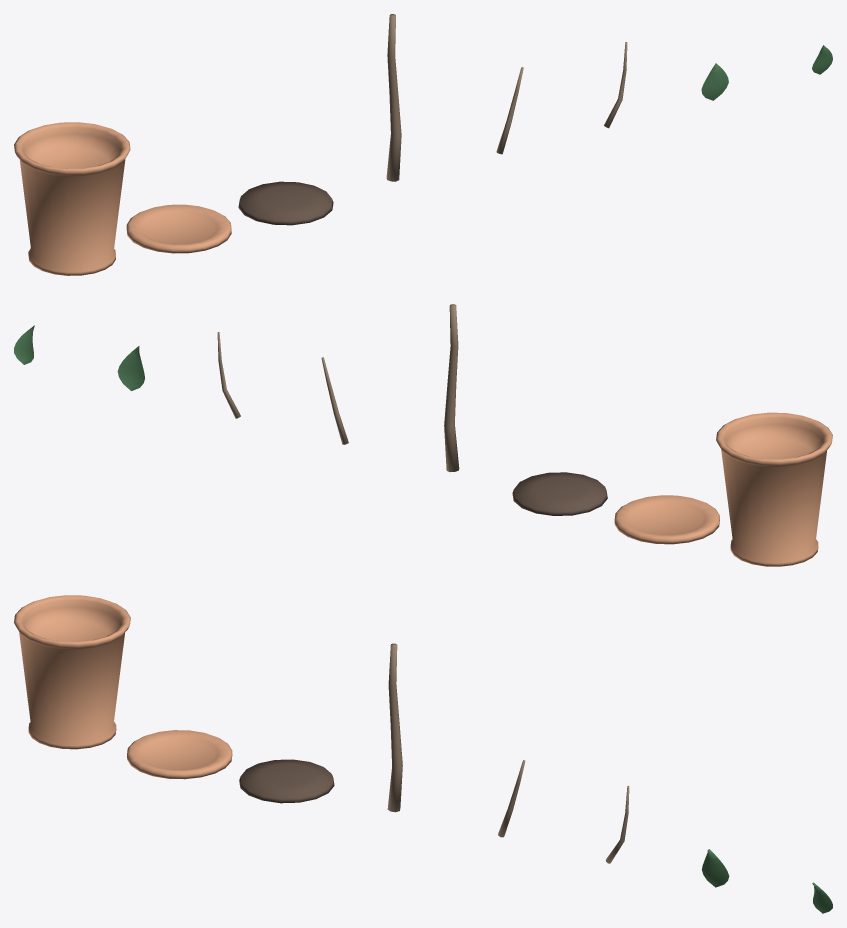
The model's file is ficus-components.glb.
3 renders of one model, top to bottom at view 1: azimuth 30°, elevation 25°; view 2: azimuth 150°, elevation 25°; view 3: azimuth 330°, elevation 25°, orthographic.
Parts seen in each view (by area): view 1: Pot, Saucer, Soil, Trunk, LeafA, BranchA; view 2: Pot, Saucer, Soil, Trunk, LeafA, LeafB, BranchA; view 3: Pot, Saucer, Soil, Trunk, LeafA.
Boxes of the visible parts, x1,y1,x2,y2 form: Pot: (14,122,130,275); Saucer: (126,204,231,253); Soil: (238,181,333,225); Trunk: (386,14,401,181); LeafA: (701,63,728,100); BranchA: (496,67,523,154); Pot: (716,412,832,566); Saucer: (614,495,719,544); Soil: (512,472,607,515); Trunk: (444,304,459,471); LeafA: (117,346,144,390); LeafB: (14,325,34,364); BranchA: (321,357,348,444); Pot: (14,595,130,749); Saucer: (127,730,232,779); Soil: (239,759,334,803); Trunk: (387,643,402,812); LeafA: (702,849,729,887).
Bounding box in the file's own units: 10.61 × 2.07 × 1.33.
